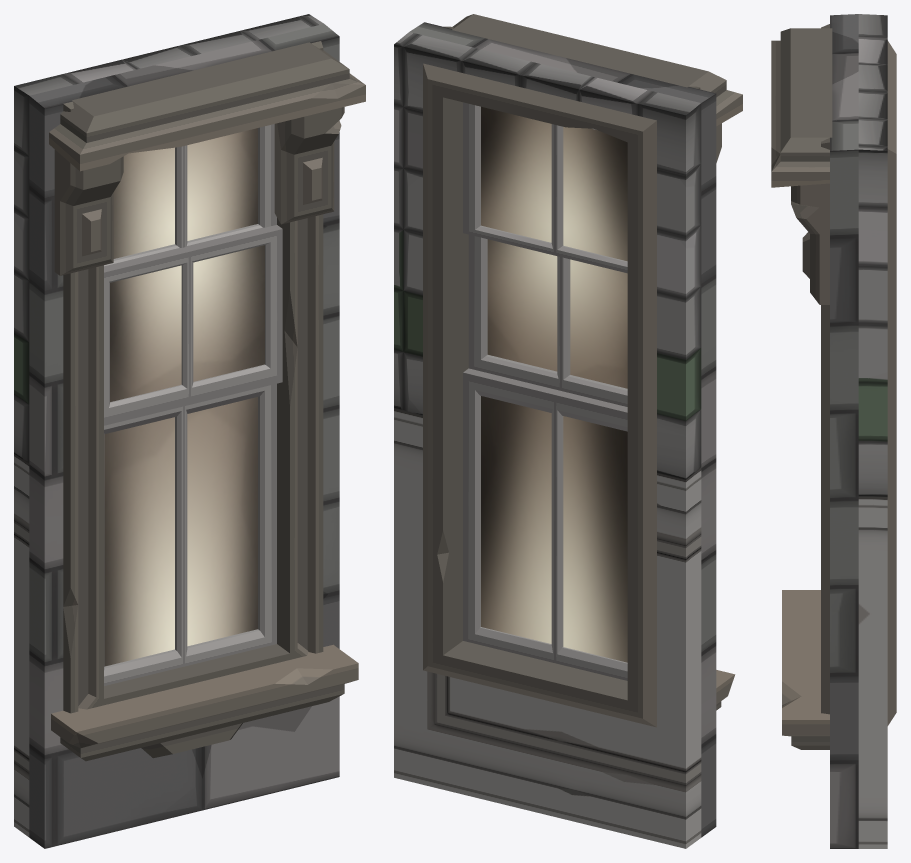
Rendered from SM_Bld_Wall_Window_Tall_02.fbx.
3 renders of one model, left to right at view 1: azimuth 30°, elevation 25°; view 2: azimuth 150°, elevation 25°; view 3: azimuth 270°, elevation 25°, orthographic. The views are drawn at different scales.
Parts seen in each view (by area): view 1: SM_Bld_Wall_Window_Tall_02, SM_Bld_Wall_Window_Tall_02_Glass; view 2: SM_Bld_Wall_Window_Tall_02, SM_Bld_Wall_Window_Tall_02_Glass; view 3: SM_Bld_Wall_Window_Tall_02.
Part boxes in pixels (x1,y1,x2,y2): SM_Bld_Wall_Window_Tall_02: (14, 14, 365, 848); SM_Bld_Wall_Window_Tall_02_Glass: (104, 128, 264, 666); SM_Bld_Wall_Window_Tall_02: (394, 14, 742, 848); SM_Bld_Wall_Window_Tall_02_Glass: (481, 106, 627, 662); SM_Bld_Wall_Window_Tall_02: (771, 14, 896, 848).
Bounding box in the file's own units: 125 × 301 × 48.76.
